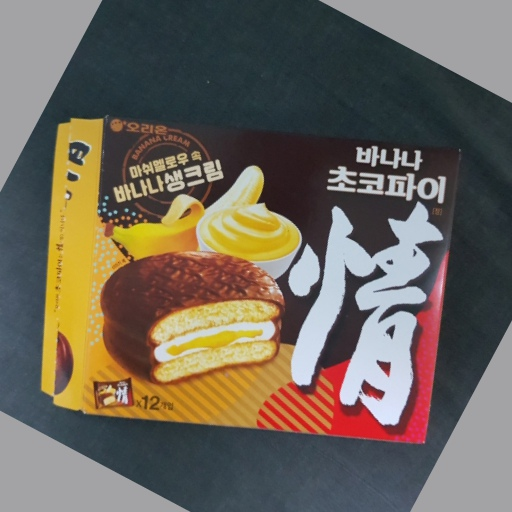Paper_0: (42, 106, 466, 457)
